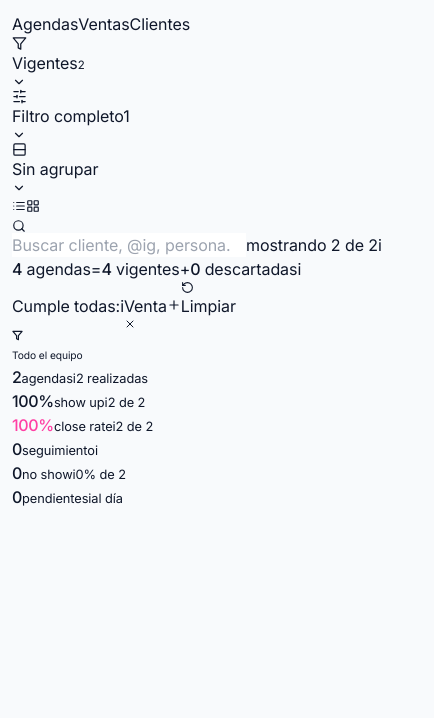
Scenario: Revisar · la fila de etiquetas del filtro › al llegar de un número no hay aviso grande: la procedencia va en el "i" de la fila
Expected: the text "Cumple todas:" is shown, [12,296,120,316]
Expected: the button with aria-label "Quitar Post call: Venta" reads "Venta", [124,294,167,330]
Hover over the element named "Filtro de Cierre por presentación: Viene del número que tocaste.": point(122, 306) [120,296,124,316]
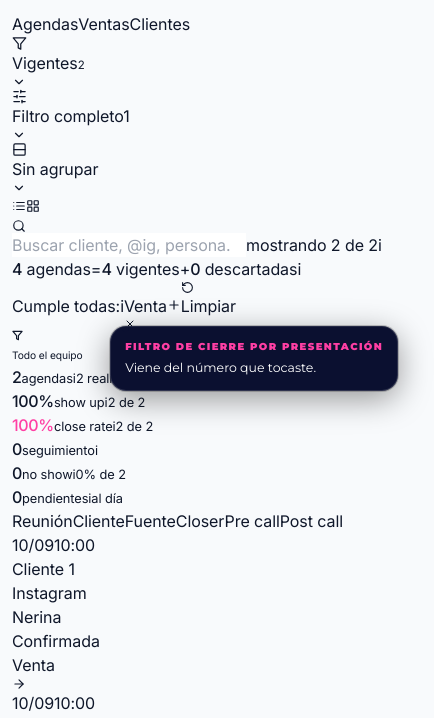
Now the text "Viene del número que tocaste." is shown, box [125,360,316,375]
Now the text "Filtro de Cierre por presentación" is shown, box [125,339,383,354]
